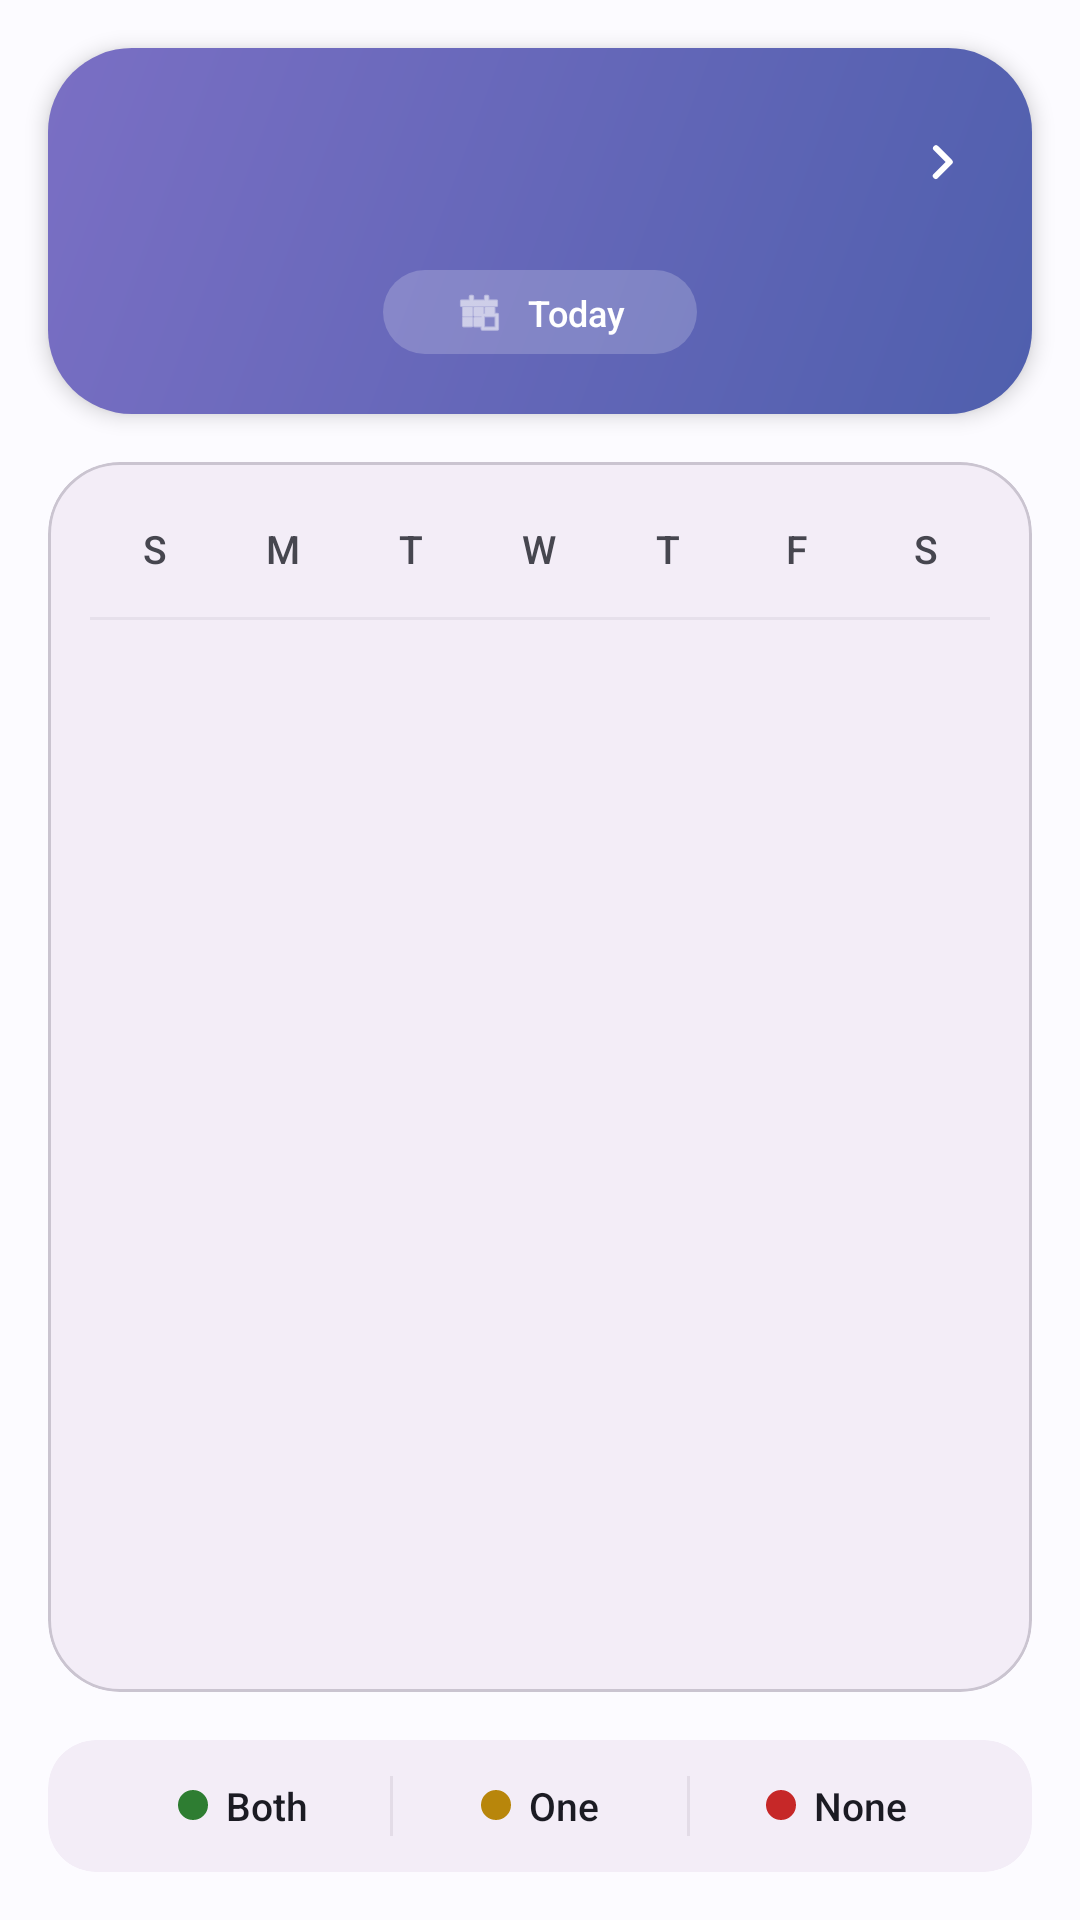

Icons on this 1080x1920 Android screen, each with its box as bbox=[x1, y1, x2, y2]:
Next month: bbox=[932, 145, 953, 179]
